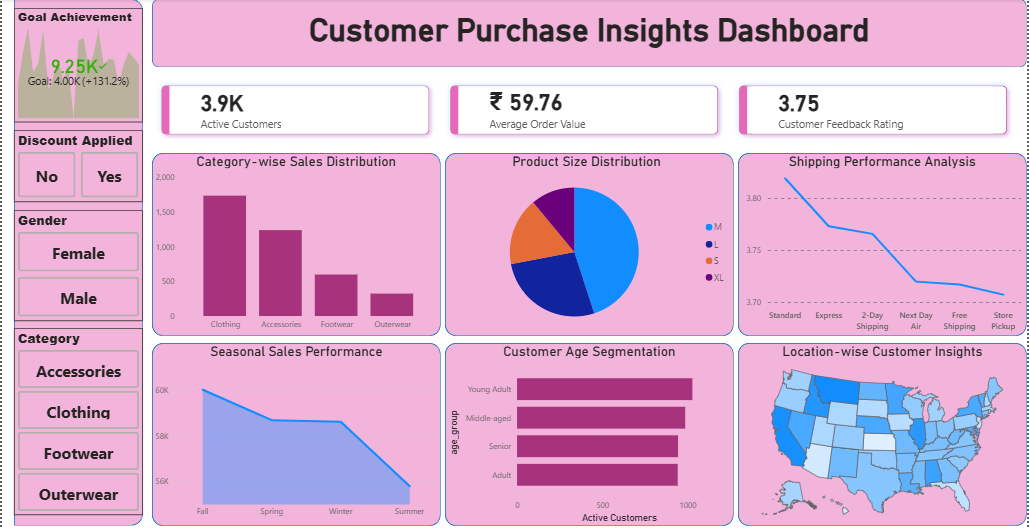

The page's visual inventory and layout, read from the dashboard file:
{"tool":"powerbi","page":{"name":"Report view","canvas":[1550,820],"ordinal":0},"visuals":[{"type":"cardVisual","fields":{"Data":["public customer.No of Customers","public customer.Average Purchese amount","public customer.Average Review Rating"]},"box":[213.3,103.3,1336.7,130],"z":0},{"type":"shape","box":[226.7,0,1323.3,103.3],"z":1000},{"type":"textbox","box":[226.7,13.3,1323.3,75],"z":2000},{"type":"shape","box":[18.3,0,195,796.7],"z":3000},{"type":"shape","box":[226.7,233.3,436.7,276.7],"z":4000},{"type":"shape","box":[670,233.3,436.7,276.7],"z":5000},{"type":"shape","box":[1113.3,233.3,436.7,276.7],"z":6000},{"type":"shape","box":[226.7,520,436.7,276.7],"z":7000},{"type":"shape","box":[670,520,436.7,276.7],"z":8000},{"type":"shape","box":[1113.3,520,436.7,276.7],"z":9000},{"type":"advancedSlicerVisual","title":"Discount Applied","fields":{"Values":["public customer.discount_applied"]},"box":[18.2,198.2,195.2,108.9],"z":10000},{"type":"advancedSlicerVisual","title":"Gender","fields":{"Values":["public customer.gender"]},"box":[18.2,319.2,195.2,167.9],"z":11000},{"type":"advancedSlicerVisual","title":"Category","fields":{"Values":["public customer.category"]},"box":[18.3,498.3,195,283.3],"z":12000},{"type":"kpi","title":"Goal Achievement","fields":{"Indicator":["public customer.Total Revenue"],"Goal":["public customer.Target"],"TrendLine":["public customer.item_purchased"]},"box":[18.3,13.3,195,173.3],"z":13000},{"type":"columnChart","title":"Category-wise Sales Distribution","fields":{"Category":["public customer.category"],"Y":["CountNonNull(public customer.item_purchased)"]},"box":[226.7,233.3,436.7,276.7],"z":14000},{"type":"pieChart","title":"Product Size Distribution","fields":{"Category":["public customer.size"],"Y":["CountNonNull(public customer.item_purchased)"]},"box":[663.3,233.3,443.3,276.7],"z":15000},{"type":"lineChart","title":"Shipping Performance Analysis","fields":{"Category":["public customer.shipping_type"],"Y":["public customer.Average Review Rating"]},"box":[1113.3,233.3,436.7,276.7],"z":16000},{"type":"areaChart","title":"Seasonal Sales Performance","fields":{"Y":["public customer.Total Revenue"],"Category":["public customer.season"]},"box":[226.7,520,436.7,273.3],"z":17000},{"type":"barChart","title":"Customer Age Segmentation","fields":{"Category":["public customer.age_group"],"Y":["public customer.Total of Customers"]},"box":[670,520,436.7,276.7],"z":18000},{"type":"shapeMap","title":"Location-wise Customer Insights","fields":{"Category":["public customer.location"],"Value":["public customer.Active Customers"]},"box":[1113.3,520,436.7,276.7],"z":18001}]}

Visuals, with their boxes in screenshot pixels (x1, y1, x2, y2):
cardVisual - public customer.No of Customers x public customer.Average Purchese amount: locate(143, 65, 1024, 151)
shape: locate(152, 0, 1024, 65)
textbox: locate(152, 6, 1024, 55)
shape: locate(15, 0, 143, 522)
shape: locate(152, 151, 440, 333)
shape: locate(444, 151, 732, 333)
shape: locate(736, 151, 1024, 333)
shape: locate(152, 340, 440, 522)
shape: locate(444, 340, 732, 522)
shape: locate(736, 340, 1024, 522)
"Discount Applied" advancedSlicerVisual: locate(15, 128, 143, 200)
"Gender" advancedSlicerVisual: locate(15, 208, 143, 318)
"Category" advancedSlicerVisual: locate(15, 326, 143, 512)
"Goal Achievement" kpi: locate(15, 6, 143, 120)
"Category-wise Sales Distribution" columnChart: locate(152, 151, 440, 333)
"Product Size Distribution" pieChart: locate(440, 151, 732, 333)
"Shipping Performance Analysis" lineChart: locate(736, 151, 1024, 333)
"Seasonal Sales Performance" areaChart: locate(152, 340, 440, 520)
"Customer Age Segmentation" barChart: locate(444, 340, 732, 522)
"Location-wise Customer Insights" shapeMap: locate(736, 340, 1024, 522)
